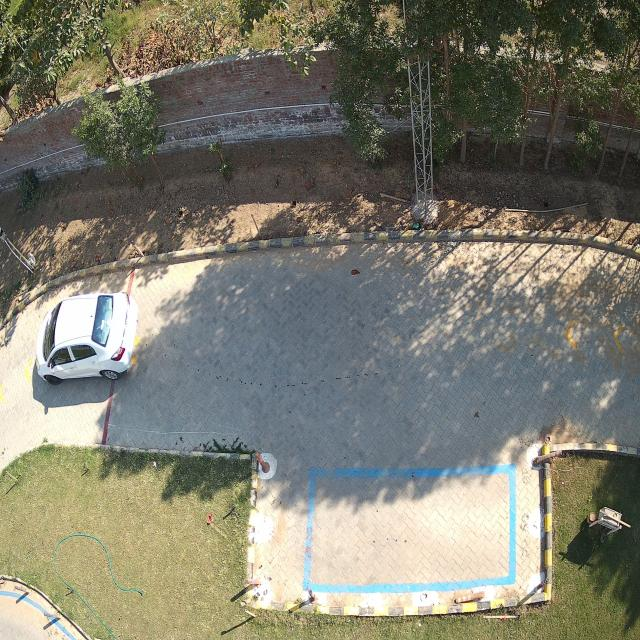car: (35, 292, 139, 383)
